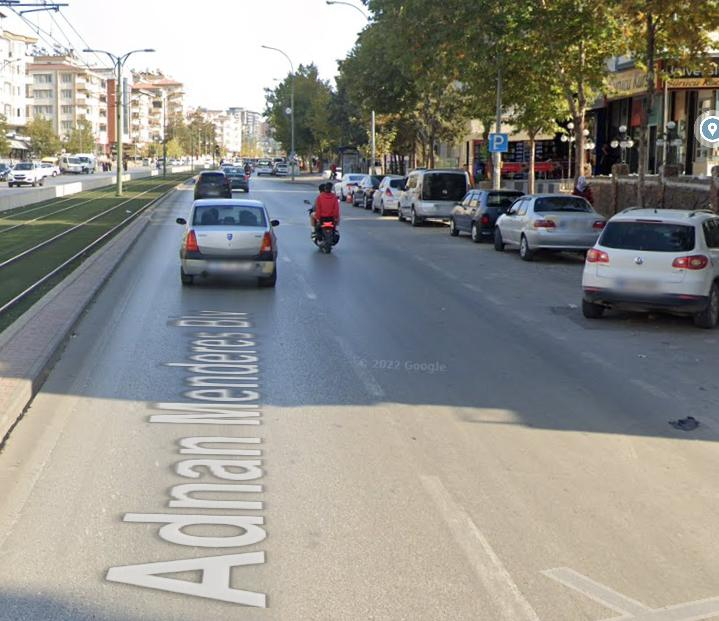park: (490, 135, 508, 152)
